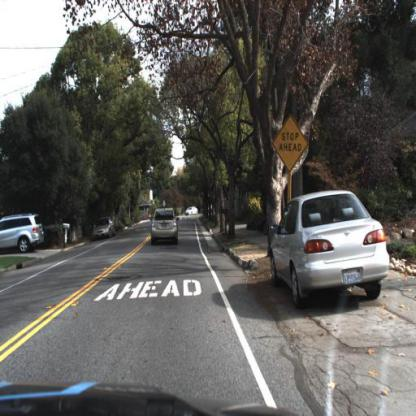car: (269, 187, 392, 309), (1, 213, 44, 257), (151, 205, 181, 245), (95, 214, 117, 244), (184, 203, 200, 221)
